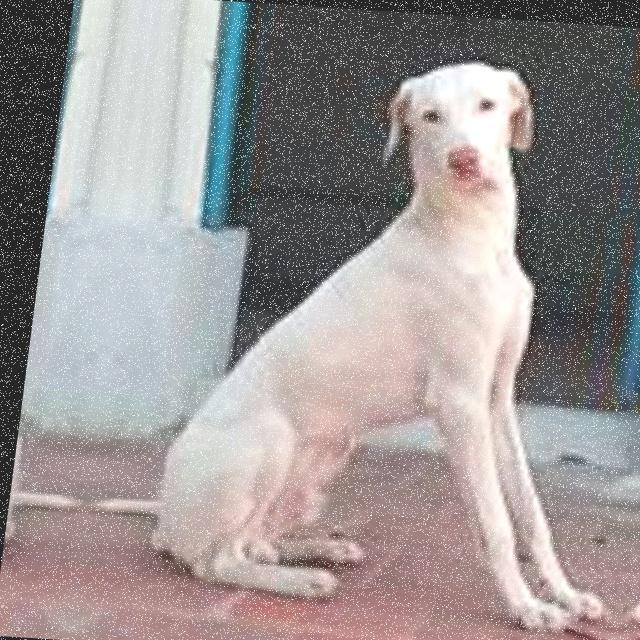dog: (101, 19, 640, 640), (0, 12, 119, 638)
